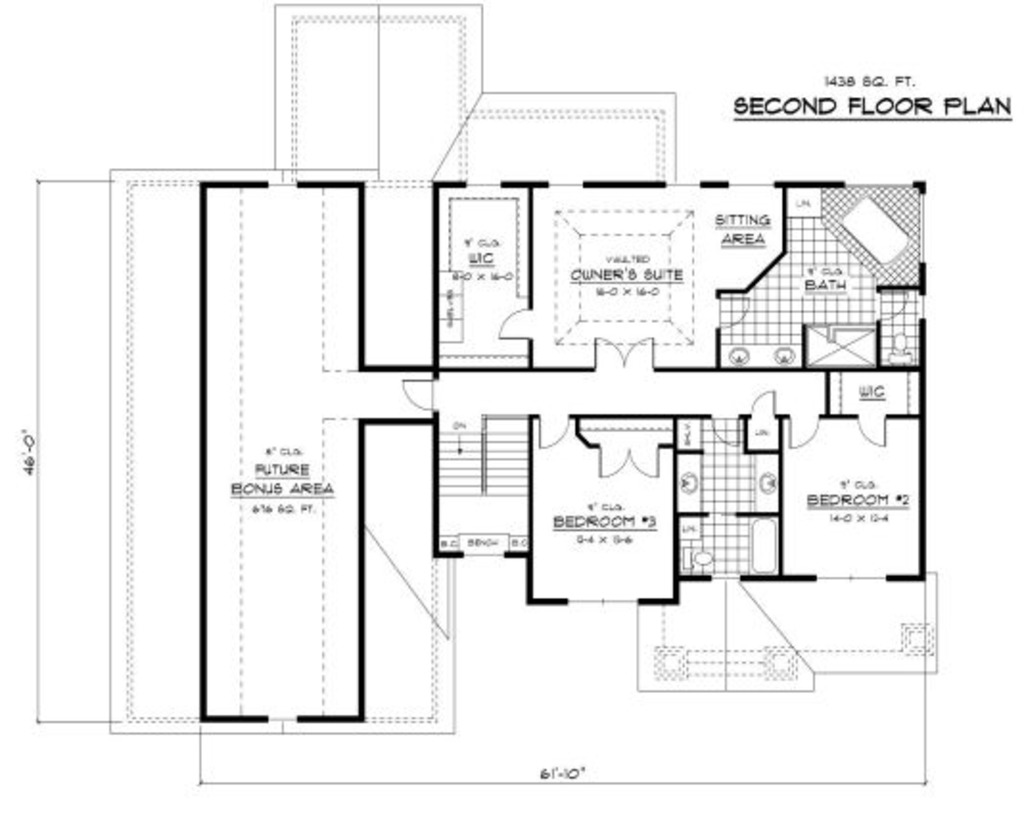door: (594, 444, 662, 481), (592, 335, 659, 371), (398, 375, 440, 415), (788, 411, 831, 450), (493, 302, 533, 340), (536, 411, 570, 452), (855, 411, 891, 445), (746, 391, 783, 421)
large_sink: (875, 331, 921, 370), (681, 546, 715, 572)
small_sink: (719, 341, 804, 369), (750, 449, 785, 513), (674, 450, 705, 515)
stairs: (439, 412, 525, 559)
tub: (841, 195, 912, 273), (749, 514, 784, 572)
windows: (806, 565, 892, 583), (562, 595, 636, 608), (654, 175, 701, 193), (544, 177, 585, 193)
